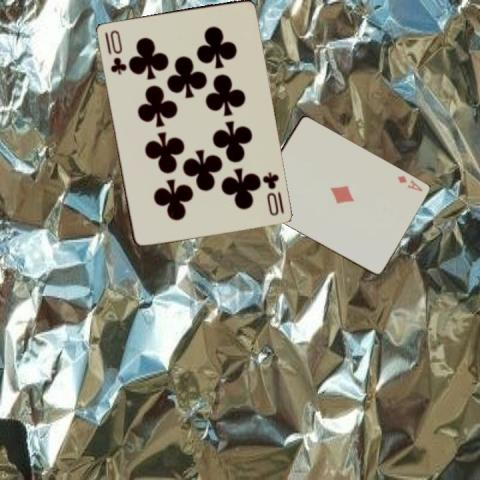10c: (102, 27, 128, 76), (260, 168, 286, 216)
Ad: (394, 173, 424, 193)
